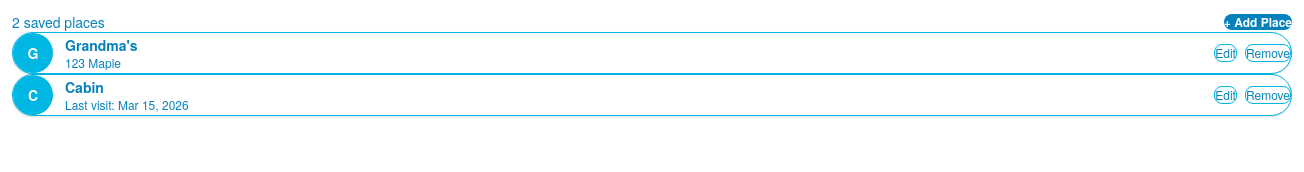
Test case: PlacesManager › confirms and deletes a place
Click the button with test id "delete-place-btn" in the row of "Grandma's": (1268, 53) x1=1245 y1=44 x2=1291 y2=62
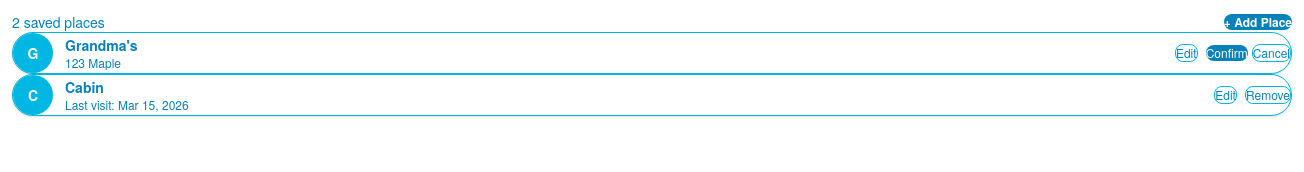
Click the button with test id "confirm-delete-place-btn": (1227, 53) x1=1206 y1=45 x2=1248 y2=61
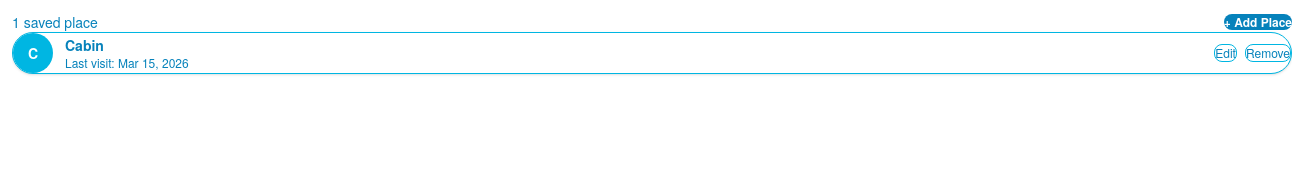
Now the number of elements with test id "place-card" is 1, box x1=12 y1=32 x2=1292 y2=74
Now the text "Grandma's" is gone
